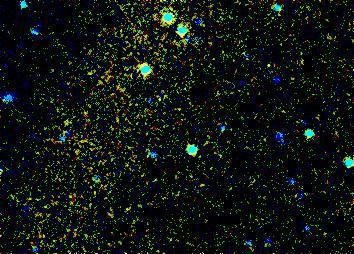star: (256, 50, 286, 80)
